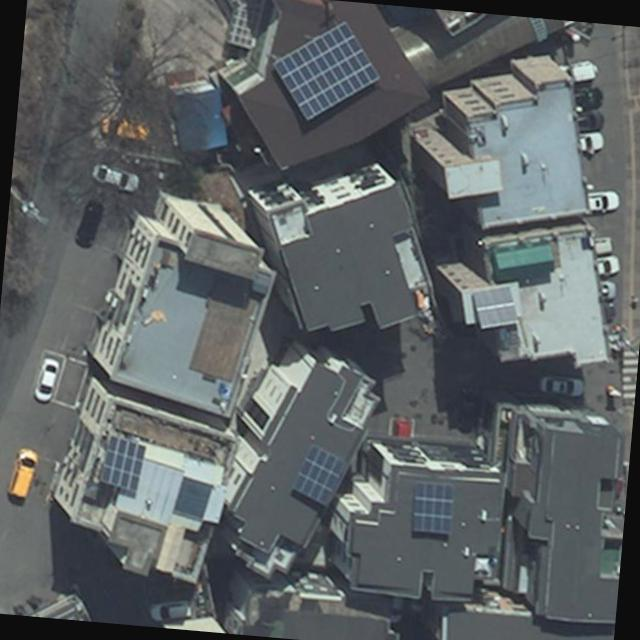solar: (266, 12, 388, 131), (286, 439, 352, 512), (94, 438, 150, 496), (408, 480, 459, 538)
